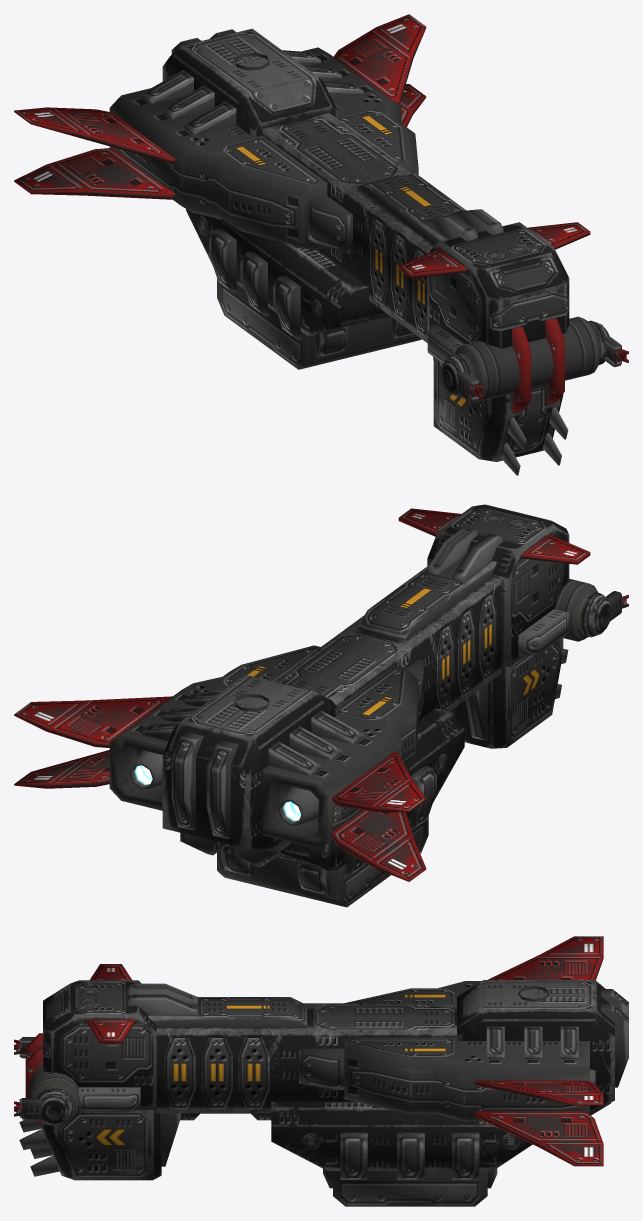
Rendered from reaver-cutthroat.glb.
3 renders of one model, top to bottom at view 1: azimuth 30°, elevation 25°; view 2: azimuth 150°, elevation 25°; view 3: azimuth 270°, elevation 25°, orthographic. The views are drawn at different scales.
Parts seen in each view (by area): view 1: hull; view 2: hull; view 3: hull.
Boxes of the visible parts, x1,y1,x2,y2 form: hull: (14,14,628,475); hull: (14,504,628,907); hull: (14,936,628,1206).
Size of the model in its own units: 0.6471 by 0.3391 by 1.
Materials: 1 (1 with a texture image).
